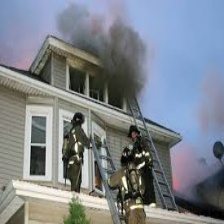smoke: (80, 7, 156, 94)
